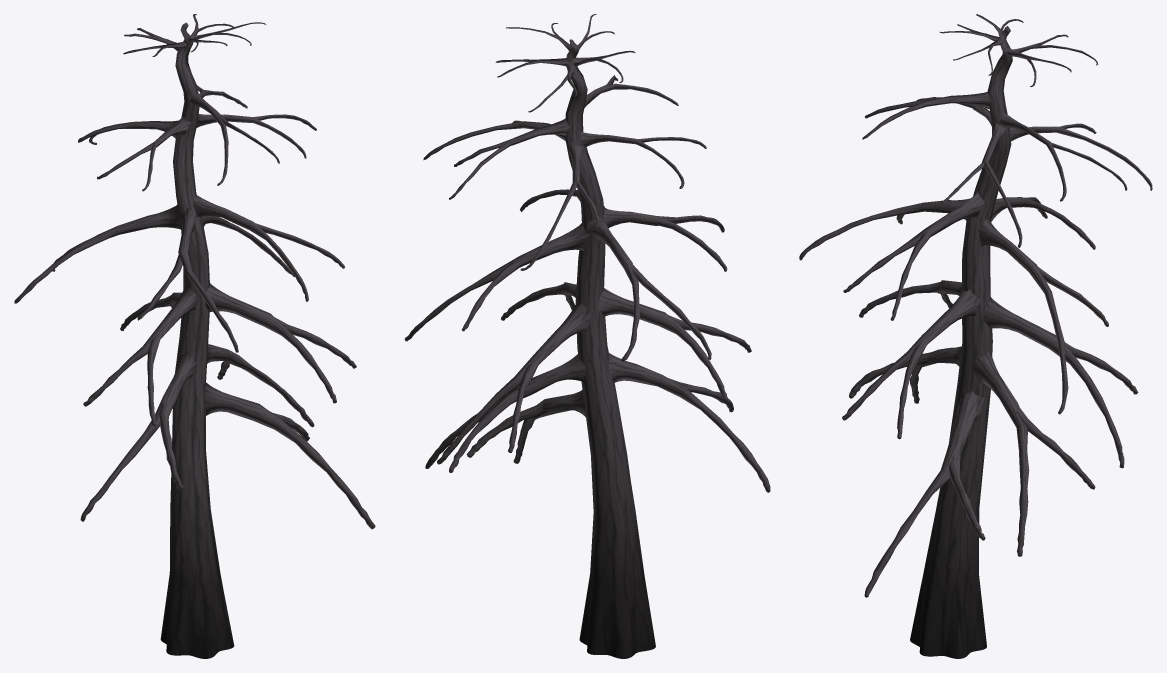
Rendered from tree_dead_5.glb.
3 views of the same model, side by side, from view 1: azimuth 30°, elevation 25°; view 2: azimuth 150°, elevation 25°; view 3: azimuth 270°, elevation 25° (orthographic). The views are drawn at different scales.
Visible parts, largest first — view 1: DeadTree_5; view 2: DeadTree_5; view 3: DeadTree_5.
Boxes of the visible parts, x1=… form: DeadTree_5: x1=14, y1=14, x2=375, y2=658; DeadTree_5: x1=404, y1=14, x2=770, y2=658; DeadTree_5: x1=799, y1=14, x2=1152, y2=658.
Bounding box in the file's own units: 8.36 × 16.44 × 8.41.
1 material, 1 textured.
